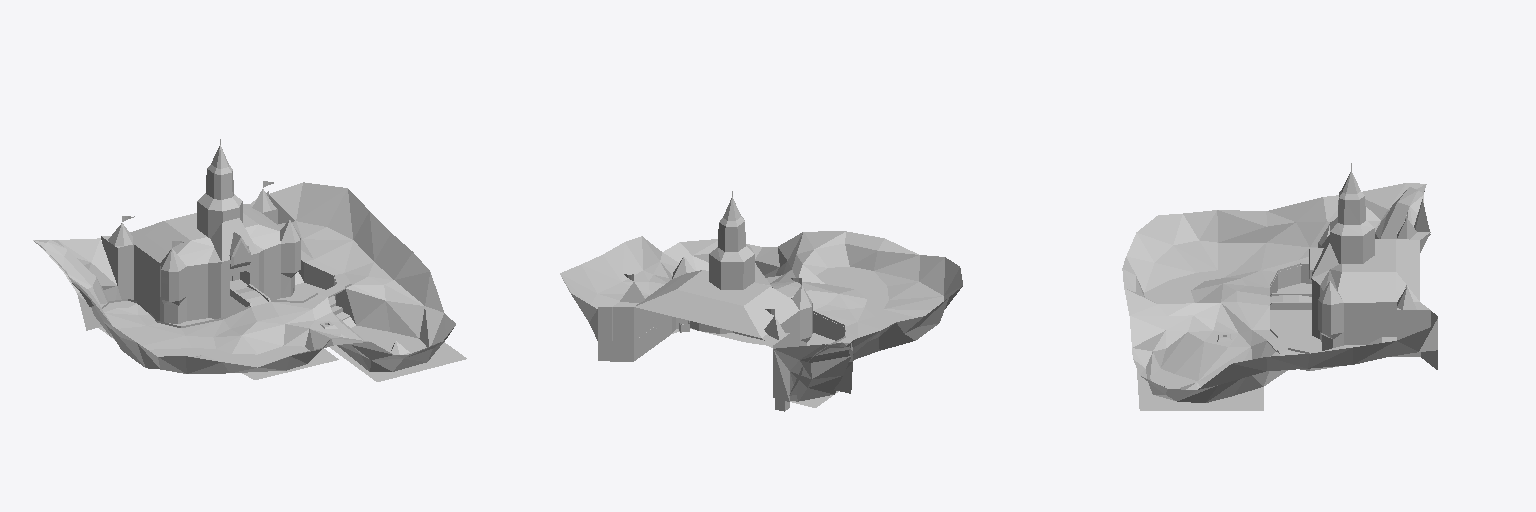
Rendered from princess peaches castle (outside).obj.
The picture shows the model from 3 angles: view 1: azimuth 30°, elevation 25°; view 2: azimuth 150°, elevation 25°; view 3: azimuth 270°, elevation 25°; orthographic projection.
Parts seen in each view (by area): view 1: princess_peaches_castle_(outside); view 2: princess_peaches_castle_(outside); view 3: princess_peaches_castle_(outside).
Boxes of the visible parts, box(x1,y1,x2,y2) form: princess_peaches_castle_(outside): box(33, 139, 466, 381); princess_peaches_castle_(outside): box(560, 191, 962, 411); princess_peaches_castle_(outside): box(1122, 163, 1437, 410).
Size of the model in its own units: 16.38 by 9.96 by 14.9.